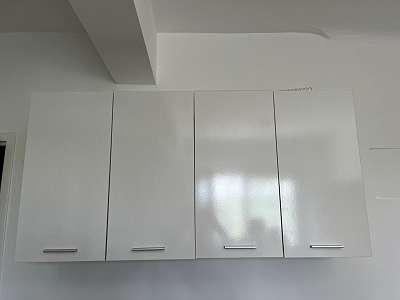cabinet_door: (26, 95, 110, 260), (114, 93, 196, 262), (282, 92, 365, 258), (200, 92, 281, 260)
handle: (308, 240, 349, 253), (38, 245, 82, 257), (127, 243, 169, 255), (222, 242, 261, 253)
